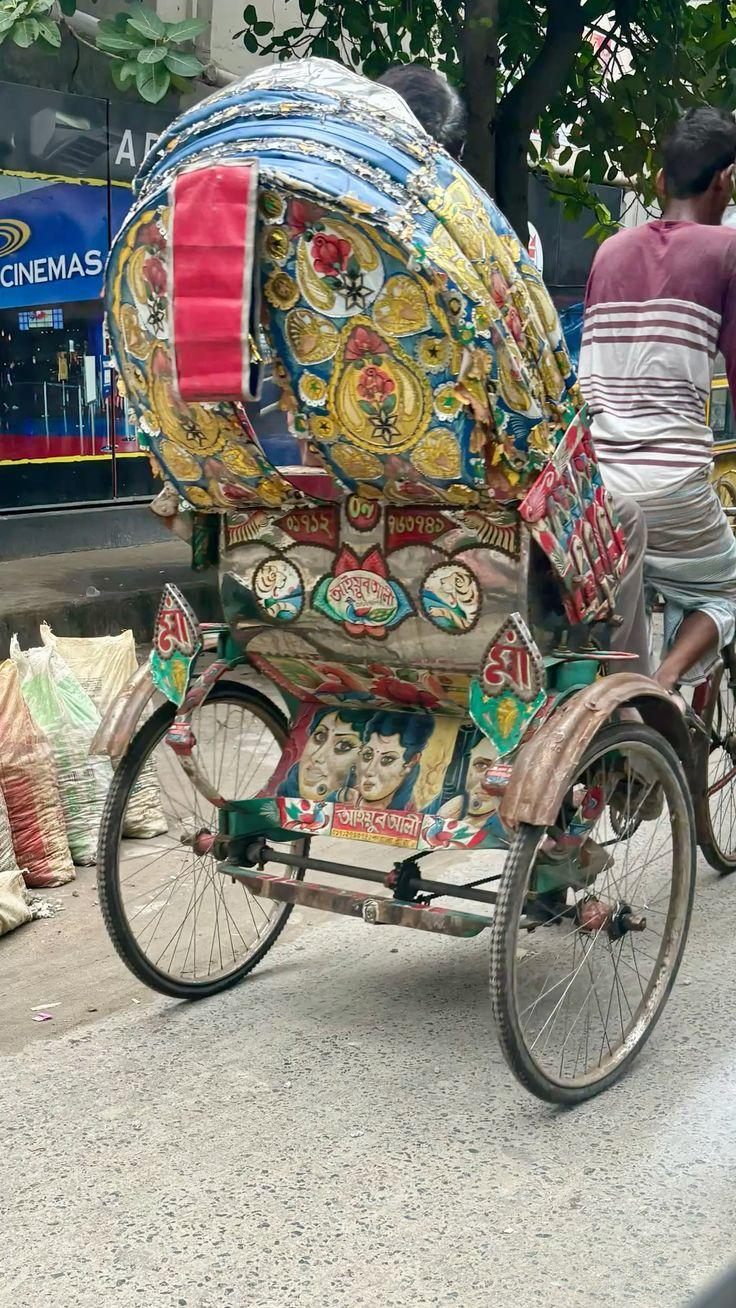Rickshaw: (97, 61, 735, 1102)
